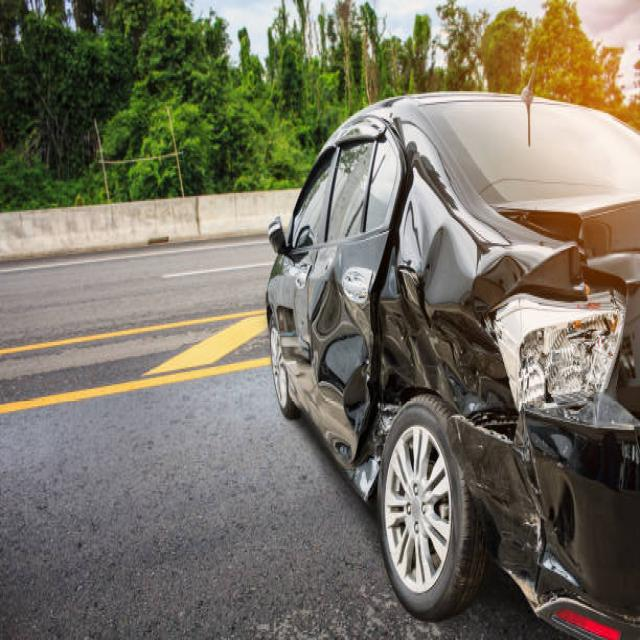Severe Damage: (257, 119, 640, 622)
